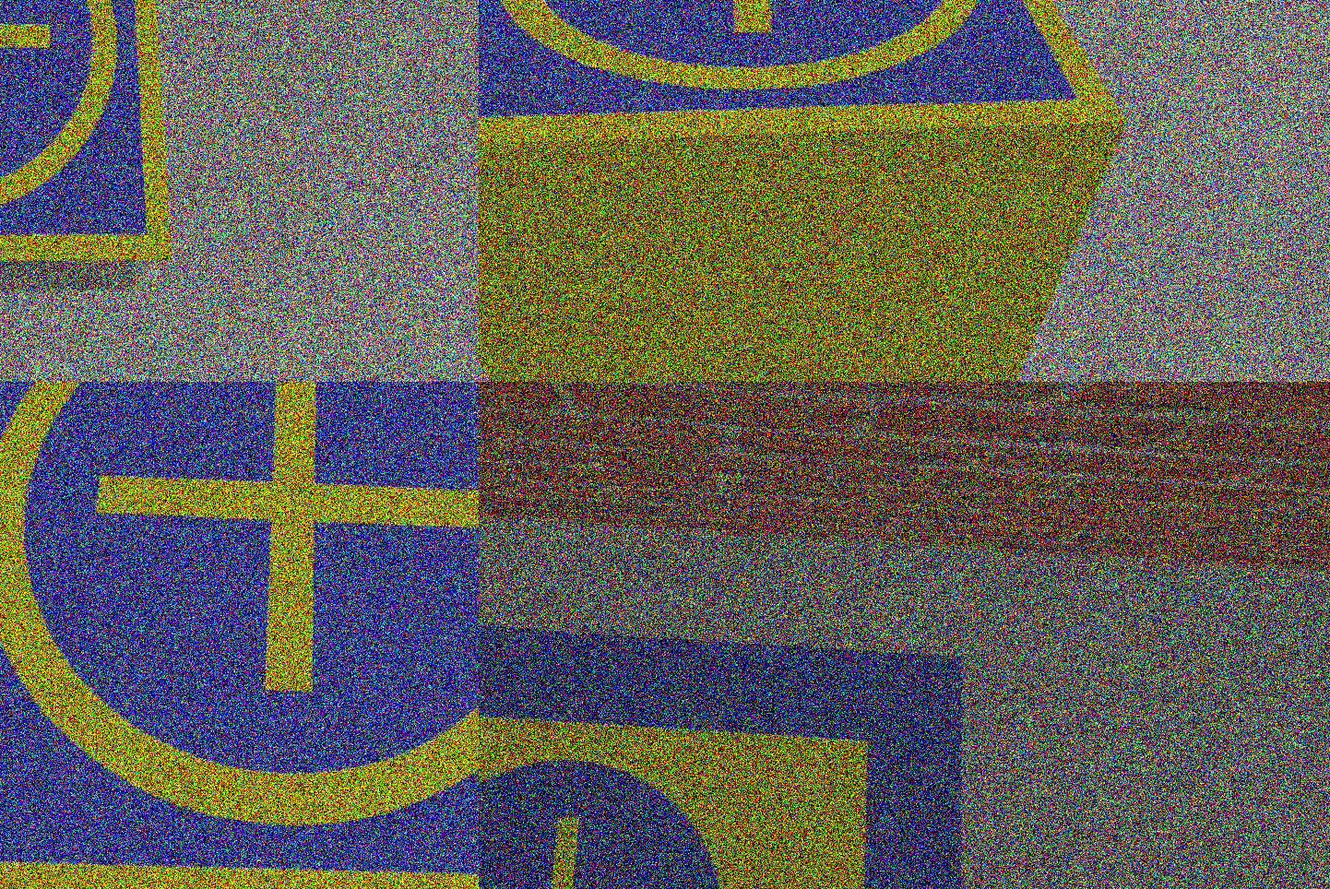large_base: (480, 572, 1000, 889)
small_base: (1, 382, 480, 889), (480, 1, 1155, 236), (1, 1, 219, 310)
